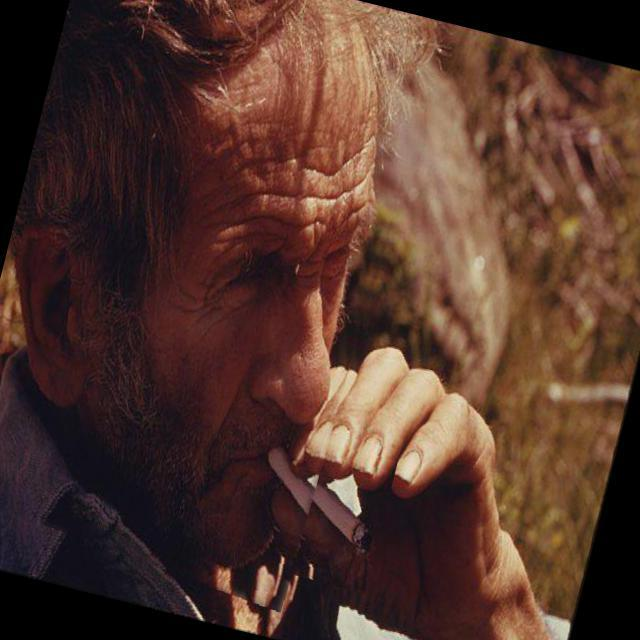cigarette: (232, 400, 406, 594)
